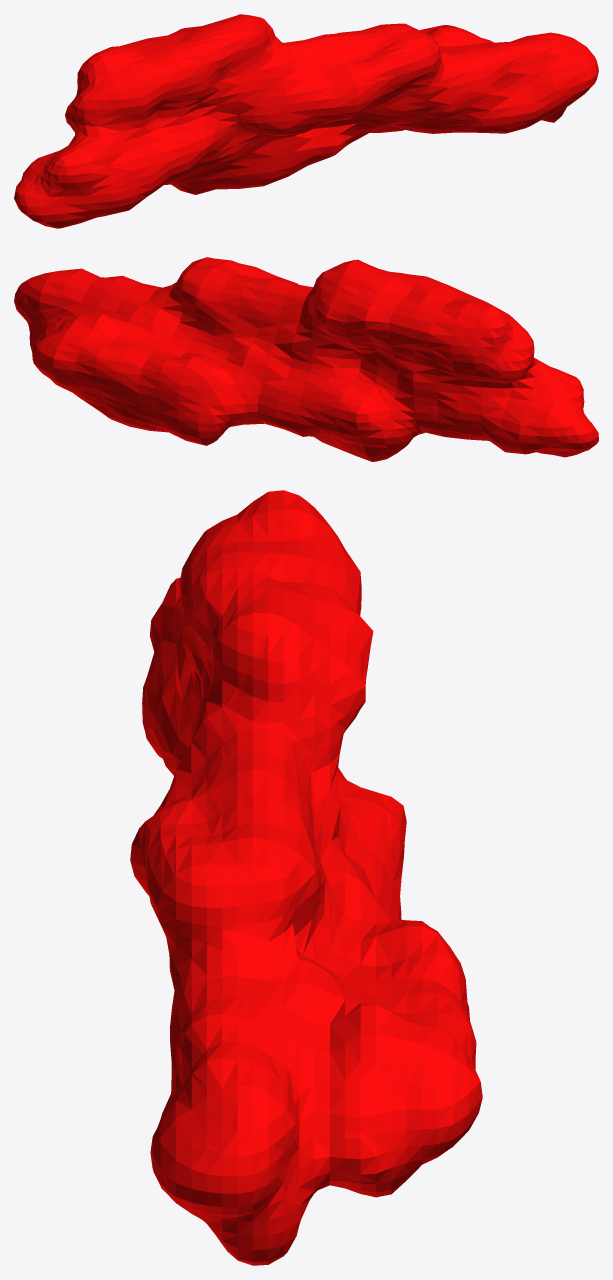
Rendered from Spectrin_alpha_chain__brain_coarse.dae.
3 renders of one model, top to bottom at view 1: azimuth 30°, elevation 25°; view 2: azimuth 150°, elevation 25°; view 3: azimuth 270°, elevation 25°, orthographic. The views are drawn at different scales.
Parts seen in each view (by area): view 1: Spectrin_alpha_chain__brain; view 2: Spectrin_alpha_chain__brain; view 3: Spectrin_alpha_chain__brain.
Part boxes in pixels (x1=…): Spectrin_alpha_chain__brain: x1=14, y1=14, x2=598, y2=228; Spectrin_alpha_chain__brain: x1=14, y1=257, x2=598, y2=461; Spectrin_alpha_chain__brain: x1=130, y1=490, x2=482, y2=1265.
Bounding box in the file's own units: 183 × 55.4 × 48.47.
